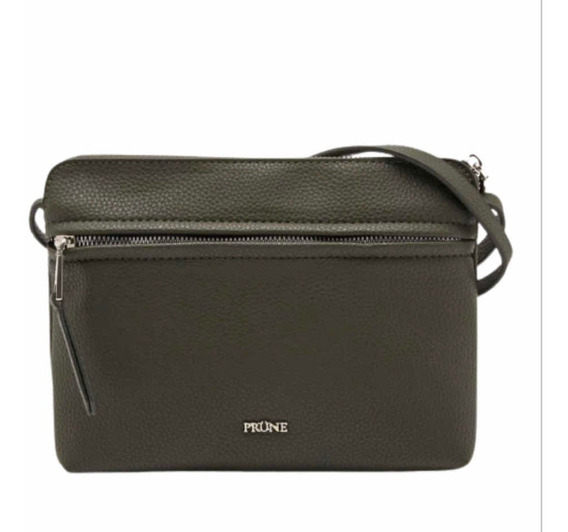cartera: (28, 143, 515, 475)
